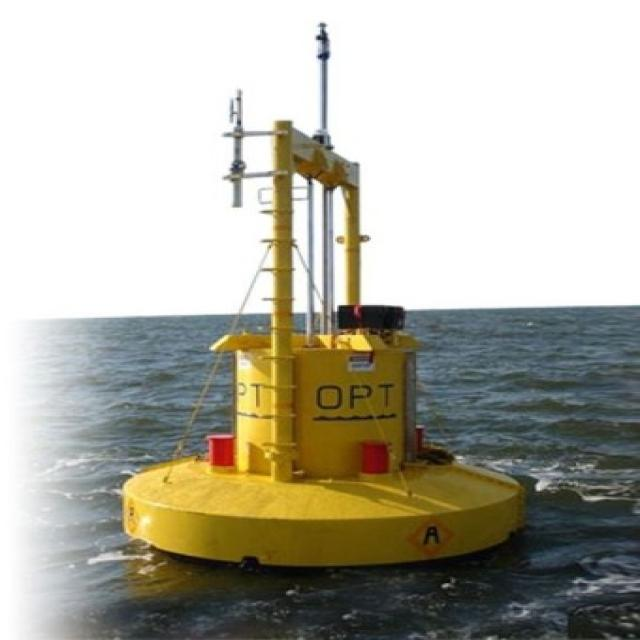2.5 sepcial mark: (125, 9, 537, 568)
